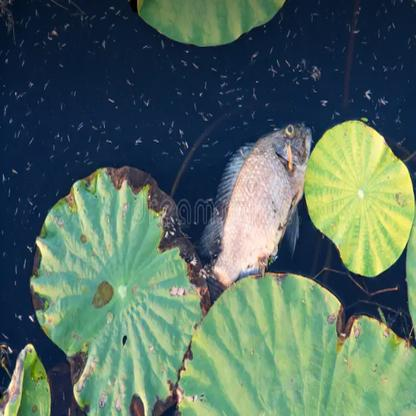deceased fish: (197, 119, 312, 296)
